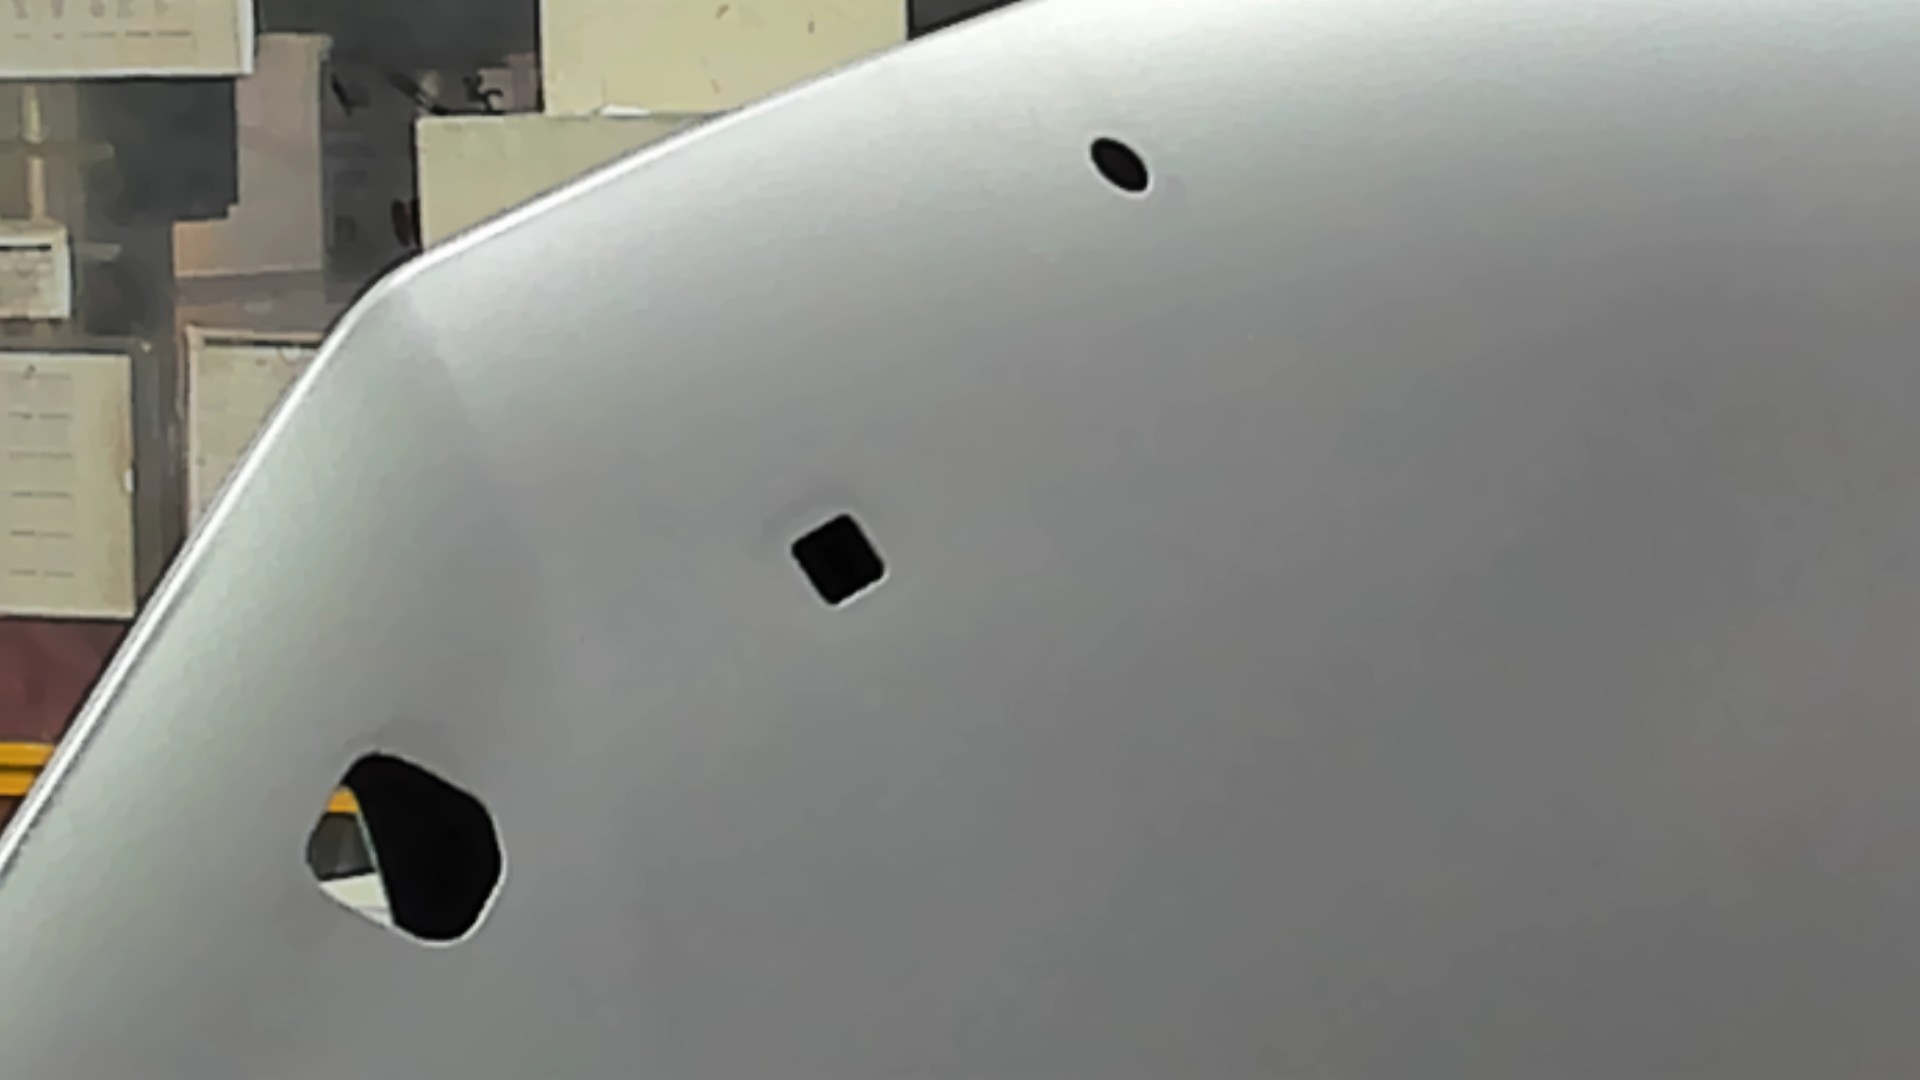chico: (1087, 129, 1153, 196)
grande: (298, 749, 510, 949)
mediano: (789, 506, 891, 615)
